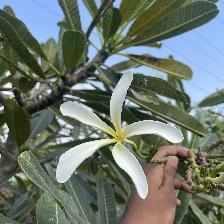champaka: (52, 70, 191, 201)
